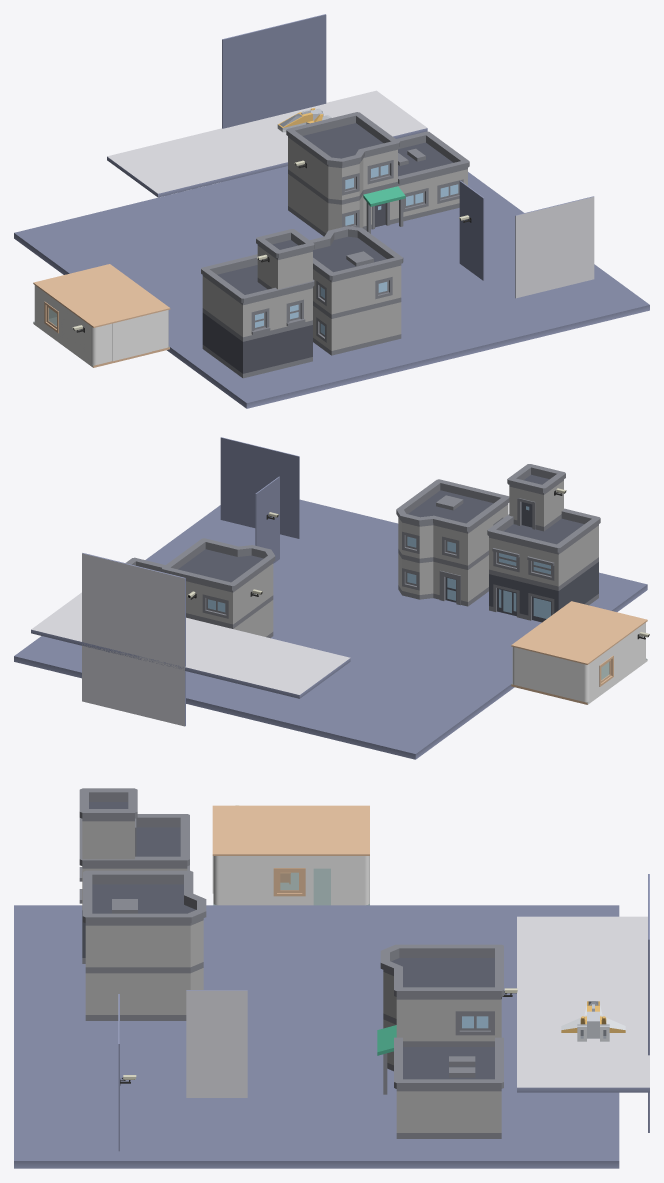
Rendered from notbad23x.glb.
3 renders of one model, top to bottom at view 1: azimuth 30°, elevation 25°; view 2: azimuth 150°, elevation 25°; view 3: azimuth 270°, elevation 25°, orthographic. The views are drawn at different scales.
Parts seen in each view (by area): view 1: floor, small_buildingE, small_buildingF, floor.004, small_buildingB, floor.003, floor.001, floorFull(Clone), floor.002, wallCornerRond(Clone), wall(Clone).001, wallWindow(Clone).001 (+2 smaller); view 2: floor, floor.003, small_buildingF, small_buildingB, floor.004, small_buildingE, floor.001, floorFull(Clone), wallCornerRond(Clone).002, floor.002, wallWindow(Clone).001, wallCornerRond(Clone) (+2 smaller); view 3: floor, small_buildingE, floor.004, small_buildingB, small_buildingF, floorFull(Clone), floor.002, wallWindow(Clone), wallCornerRond(Clone).005, wallCornerRond(Clone).007, craft_speederA, Floor.002 (+1 smaller).
Part boxes in pixels (left/top/right/bottom): floor: left=14, top=166, right=649, bottom=408; small_buildingE: left=286, top=112, right=469, bottom=236; small_buildingF: left=201, top=229, right=314, bottom=378; floor.004: left=107, top=90, right=427, bottom=197; small_buildingB: left=310, top=226, right=403, bottom=355; floor.003: left=222, top=14, right=326, bottom=128; floor.001: left=515, top=196, right=594, bottom=298; floorFull(Clone): left=33, top=264, right=170, bottom=327; floor.002: left=459, top=180, right=484, bottom=280; wallCornerRond(Clone): left=69, top=311, right=111, bottom=365; wall(Clone).001: left=112, top=314, right=151, bottom=361; wallWindow(Clone).001: left=43, top=291, right=69, bottom=347; floor: left=14, top=499, right=647, bottom=759; floor.003: left=82, top=553, right=185, bottom=726; small_buildingF: left=487, top=464, right=600, bottom=622; small_buildingB: left=396, top=479, right=509, bottom=606; floor.004: left=31, top=592, right=350, bottom=698; small_buildingE: left=125, top=538, right=275, bottom=638; floor.001: left=220, top=437, right=299, bottom=538; floorFull(Clone): left=511, top=601, right=647, bottom=664; wallCornerRond(Clone).002: left=529, top=651, right=597, bottom=702; floor.002: left=255, top=476, right=279, bottom=563; wallWindow(Clone).001: left=597, top=639, right=623, bottom=695; wallCornerRond(Clone): left=623, top=622, right=645, bottom=675; floor: left=14, top=905, right=619, bottom=1168; small_buildingE: left=377, top=944, right=503, bottom=1138; floor.004: left=517, top=916, right=649, bottom=1092; small_buildingB: left=83, top=870, right=206, bottom=1020; small_buildingF: left=79, top=788, right=189, bottom=963; floorFull(Clone): left=212, top=805, right=369, bottom=855; floor.002: left=186, top=990, right=247, bottom=1097; wallWindow(Clone): left=257, top=856, right=313, bottom=905; wallCornerRond(Clone).005: left=213, top=856, right=256, bottom=905; wallCornerRond(Clone).007: left=331, top=856, right=369, bottom=905; craft_speederA: left=561, top=1001, right=625, bottom=1041; Floor.002: left=213, top=868, right=369, bottom=905.
Bounding box in the file's own units: 73.02 × 21.14 × 63.03.
Materials: 52 (3 with a texture image).
